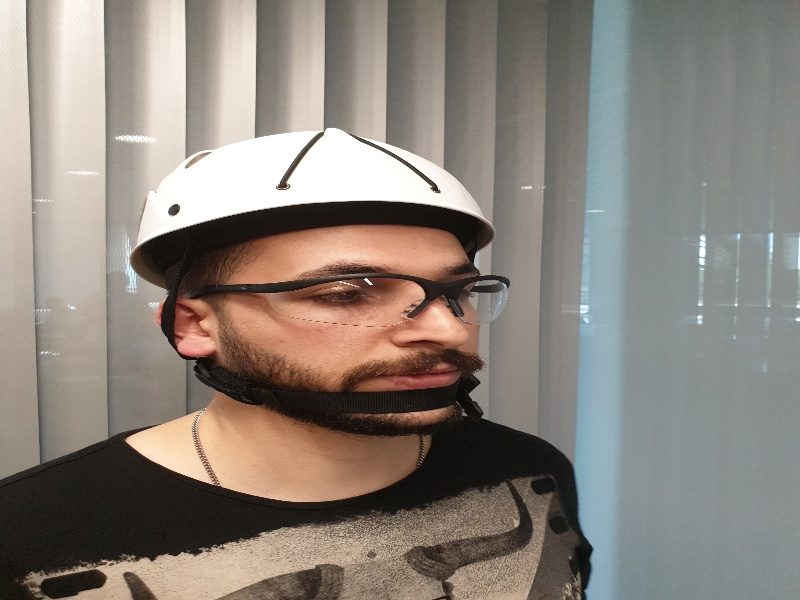Baret: (132, 134, 509, 244)
Gozluk: (188, 268, 513, 324)
